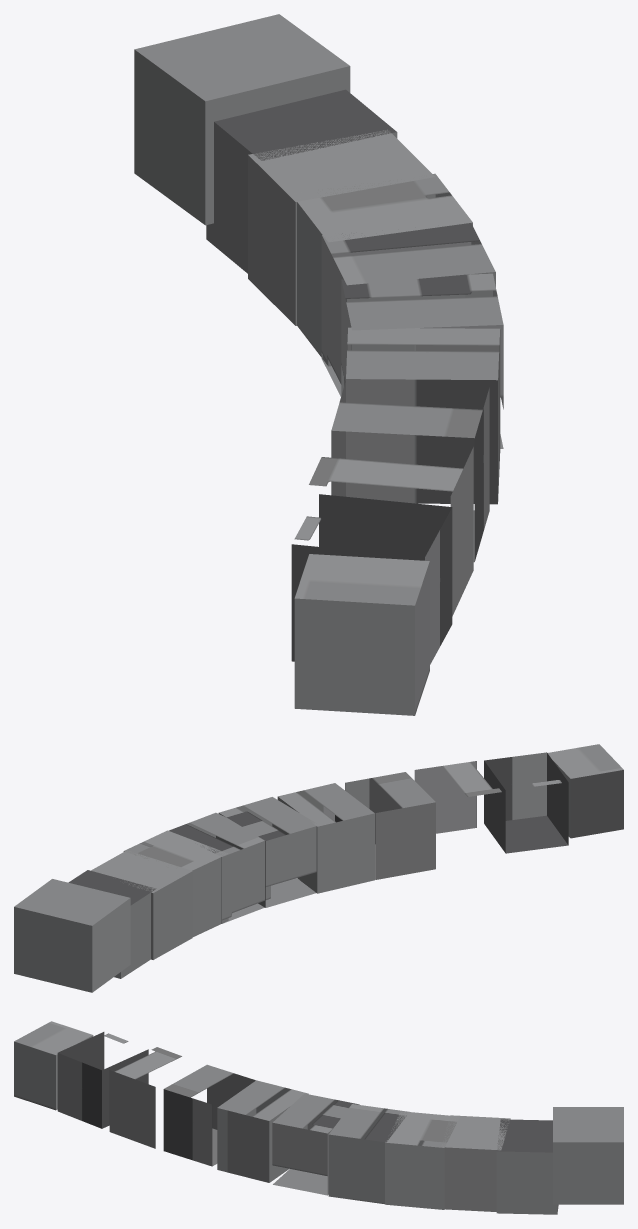
The picture shows the model from 3 angles, top to bottom: view 1: azimuth 30°, elevation 25°; view 2: azimuth 150°, elevation 25°; view 3: azimuth 270°, elevation 25°; orthographic projection. The views are drawn at different scales.
Bounding box in the file's own units: 0.7784 × 0.1956 × 1.48.
